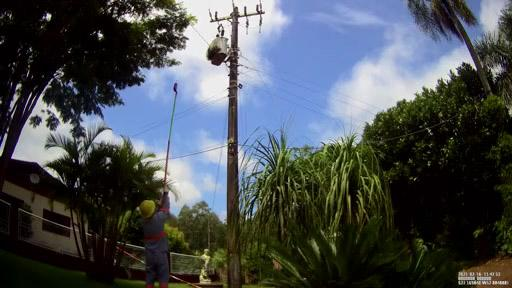Detector_Tensao_Contato: (173, 80, 178, 96)
Vara_Manobra: (161, 93, 178, 216)
